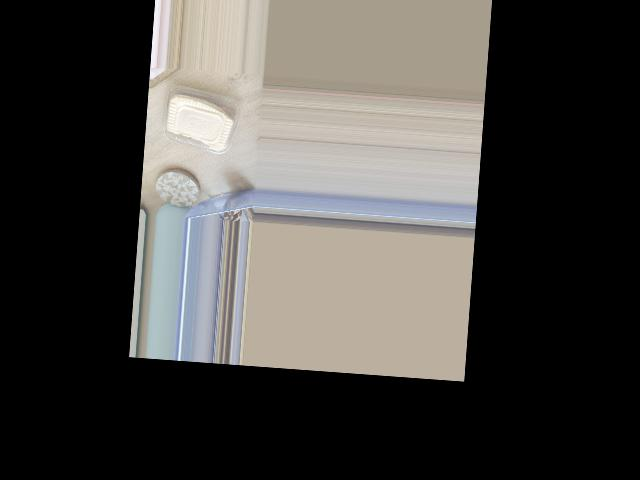cheese: (150, 66, 236, 159)
